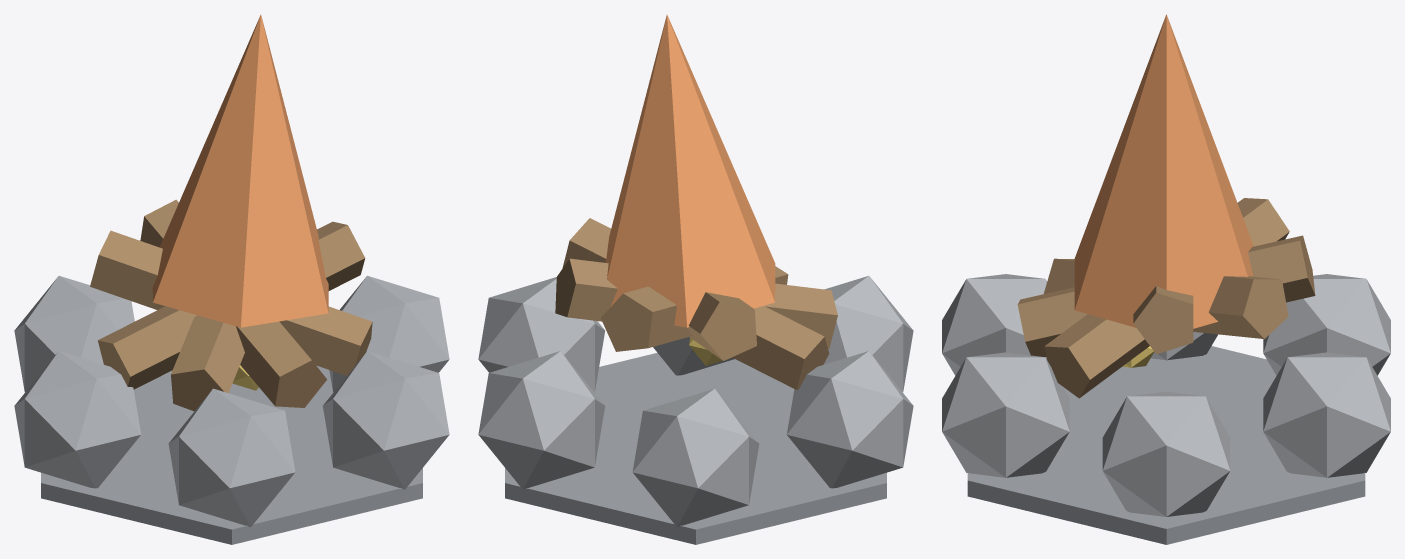
The model's file is animprop_campfire_02.glb.
3 renders of one model, left to right at view 1: azimuth 30°, elevation 25°; view 2: azimuth 150°, elevation 25°; view 3: azimuth 270°, elevation 25°, orthographic. The views are drawn at different scales.
Visible parts, largest first — view 1: animprop; view 2: animprop; view 3: animprop.
Part boxes in pixels (x1,y1,x2,y2): animprop: [14, 14, 449, 544]; animprop: [478, 14, 913, 544]; animprop: [942, 14, 1390, 544].
Size of the model in its own units: 1.13 by 1.12 by 1.02.
